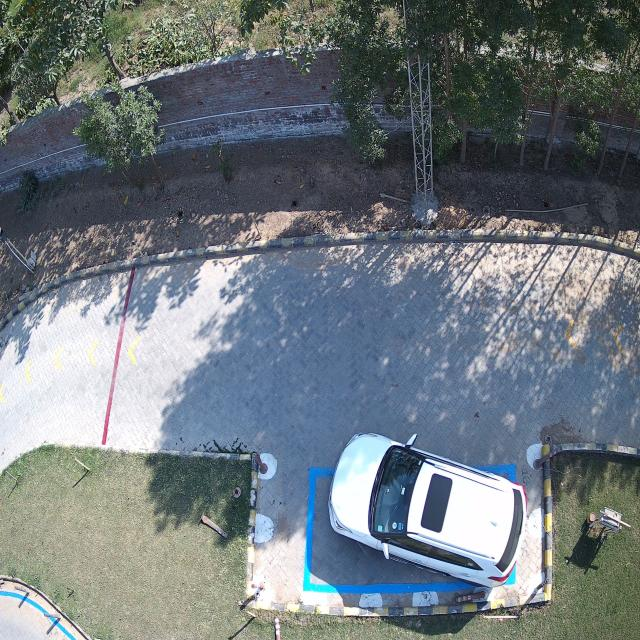car: (329, 433, 528, 587)
